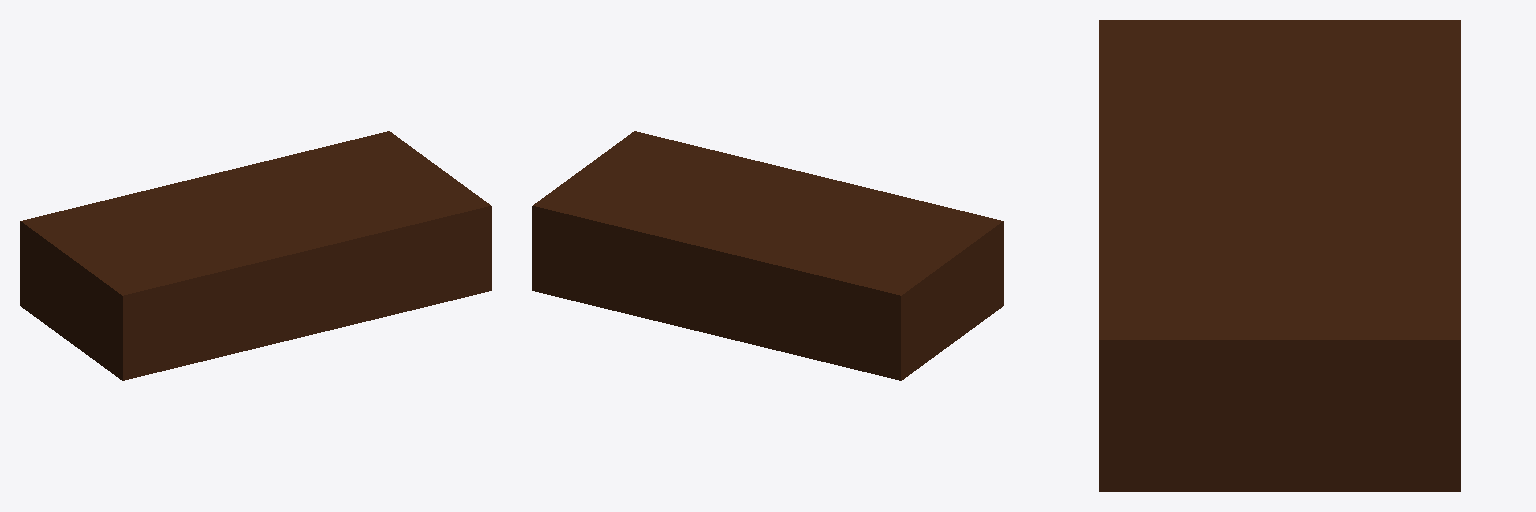
robot.urdf — red_brick:
<?xml version="1.0"?>
<robot name="red_brick">

  <link name="base_link">
    <collision>
      <origin xyz="0 0 0" rpy="0 0 0"/>
      <geometry>
        <box size="0.24 0.115 0.053" />
      </geometry>
    </collision>

    <visual>
      <origin xyz="0 0 0" rpy="0 0 0"/>
      <geometry>
        <box size="0.24 0.115 0.053" />
      </geometry>
      <material name="brick_red">
          <color rgba="0.32 0.191 0.113 1"/>
      </material>
    </visual>

    <inertial>
      <mass value="2.6" />
      <inertia
        ixx="0.166667" ixy="0.0"  ixz="0.0"
        iyy="0.166667" iyz="0.0"
        izz="0.166667" />
    </inertial>
  </link>

  <gazebo reference="base_link">
    <material>Gazebo/Red</material>
      <mu1>5</mu1>
      <mu2>5</mu2>
      <self_collide>1</self_collide>
      <kinematic>0</kinematic>
      <gravity>1</gravity>
  </gazebo>

</robot>

--- What the picture shows (computed from the rendered views, not written in the file) ---
Views: 3 orthographic renders of the robot side by side, from view 1: azimuth 30°, elevation 25°; view 2: azimuth 150°, elevation 25°; view 3: azimuth 270°, elevation 25°.
Robot: red_brick — 1 links, 0 joints (none); root link base_link; default pose: all joints at 0.
Links seen in each view (by area): view 1: base_link; view 2: base_link; view 3: base_link.
Boxes of the visible links, left/top/right/bottom form: base_link: left=20, top=131, right=491, bottom=380; base_link: left=532, top=131, right=1003, bottom=380; base_link: left=1099, top=20, right=1460, bottom=491.
Bounding box of the posed robot: 0.24 × 0.115 × 0.053 m (x, y, z).
Geometry: primitives only (box / cylinder / sphere), no mesh files.